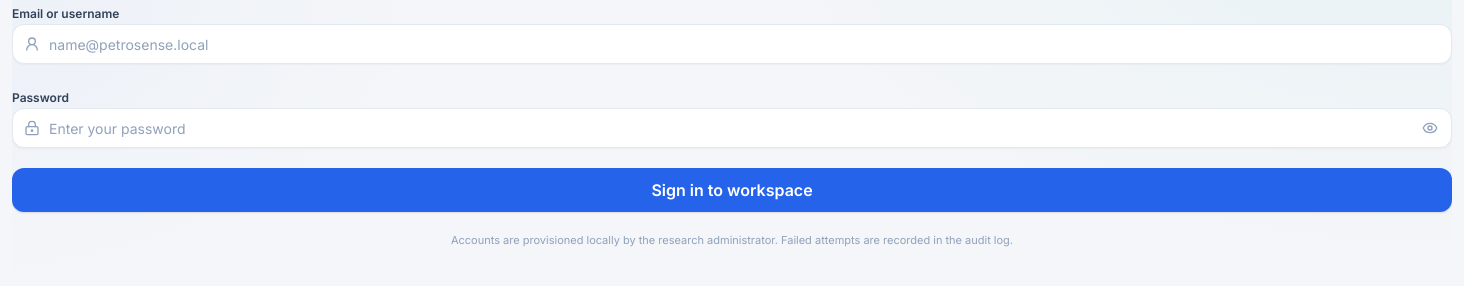
Test: LoginForm › rejects a short password before calling the API
The image size is (1464, 286).
In the field labelled "Email or username": (732, 44) [12, 24, 1452, 64], type "engineer@petrosense.local"
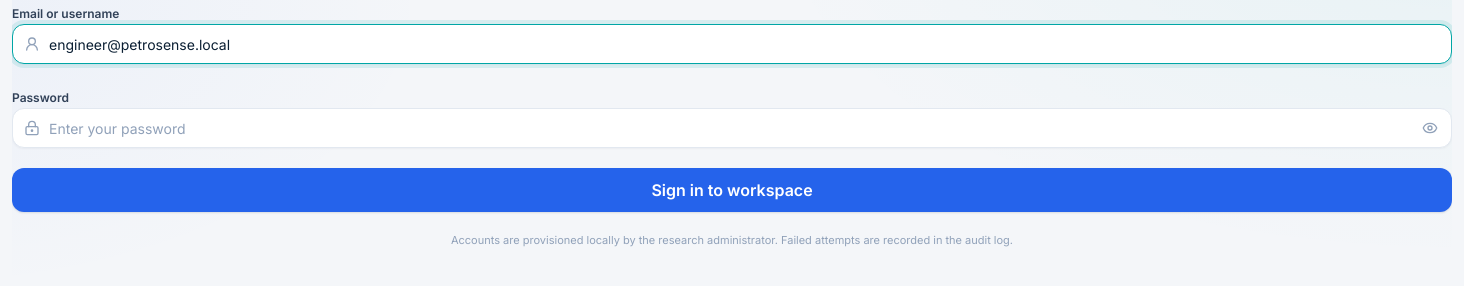
In the password field labelled "Password": (732, 128) [12, 108, 1452, 148], type "short"
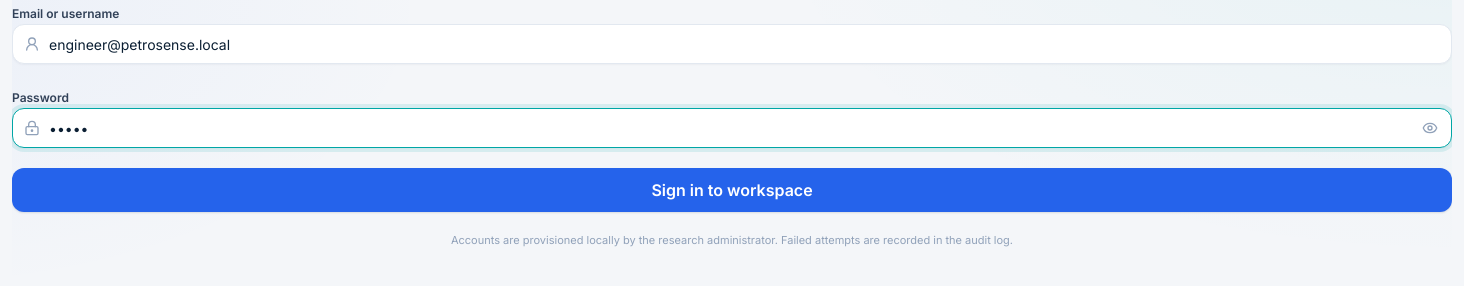
Click the button "Sign in to workspace": (732, 190) [12, 168, 1452, 212]
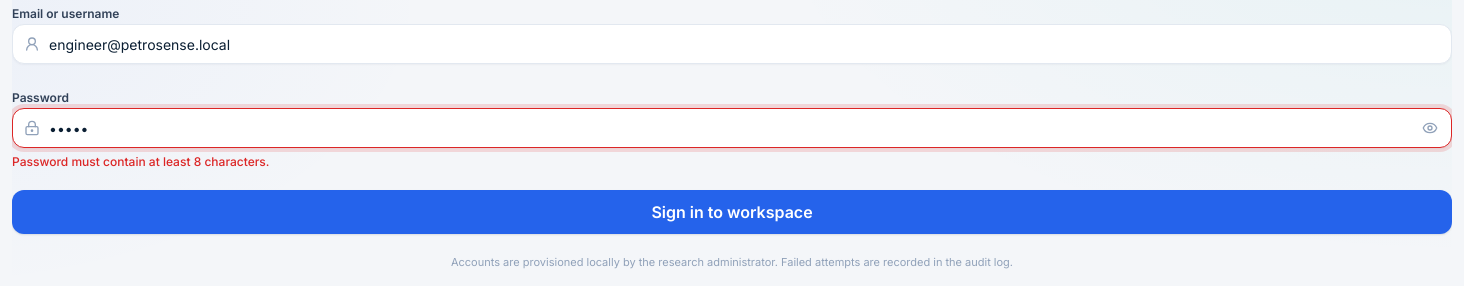
Now the text "Password must contain at least 8 characters." is shown, box [12, 154, 270, 169]
